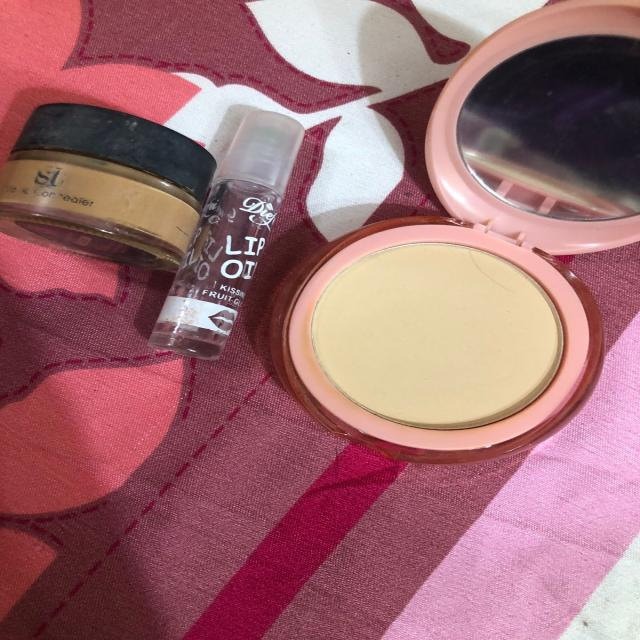kajal: (0, 56, 210, 300)
lip gloss: (141, 99, 329, 374)
powder: (265, 179, 596, 492)
